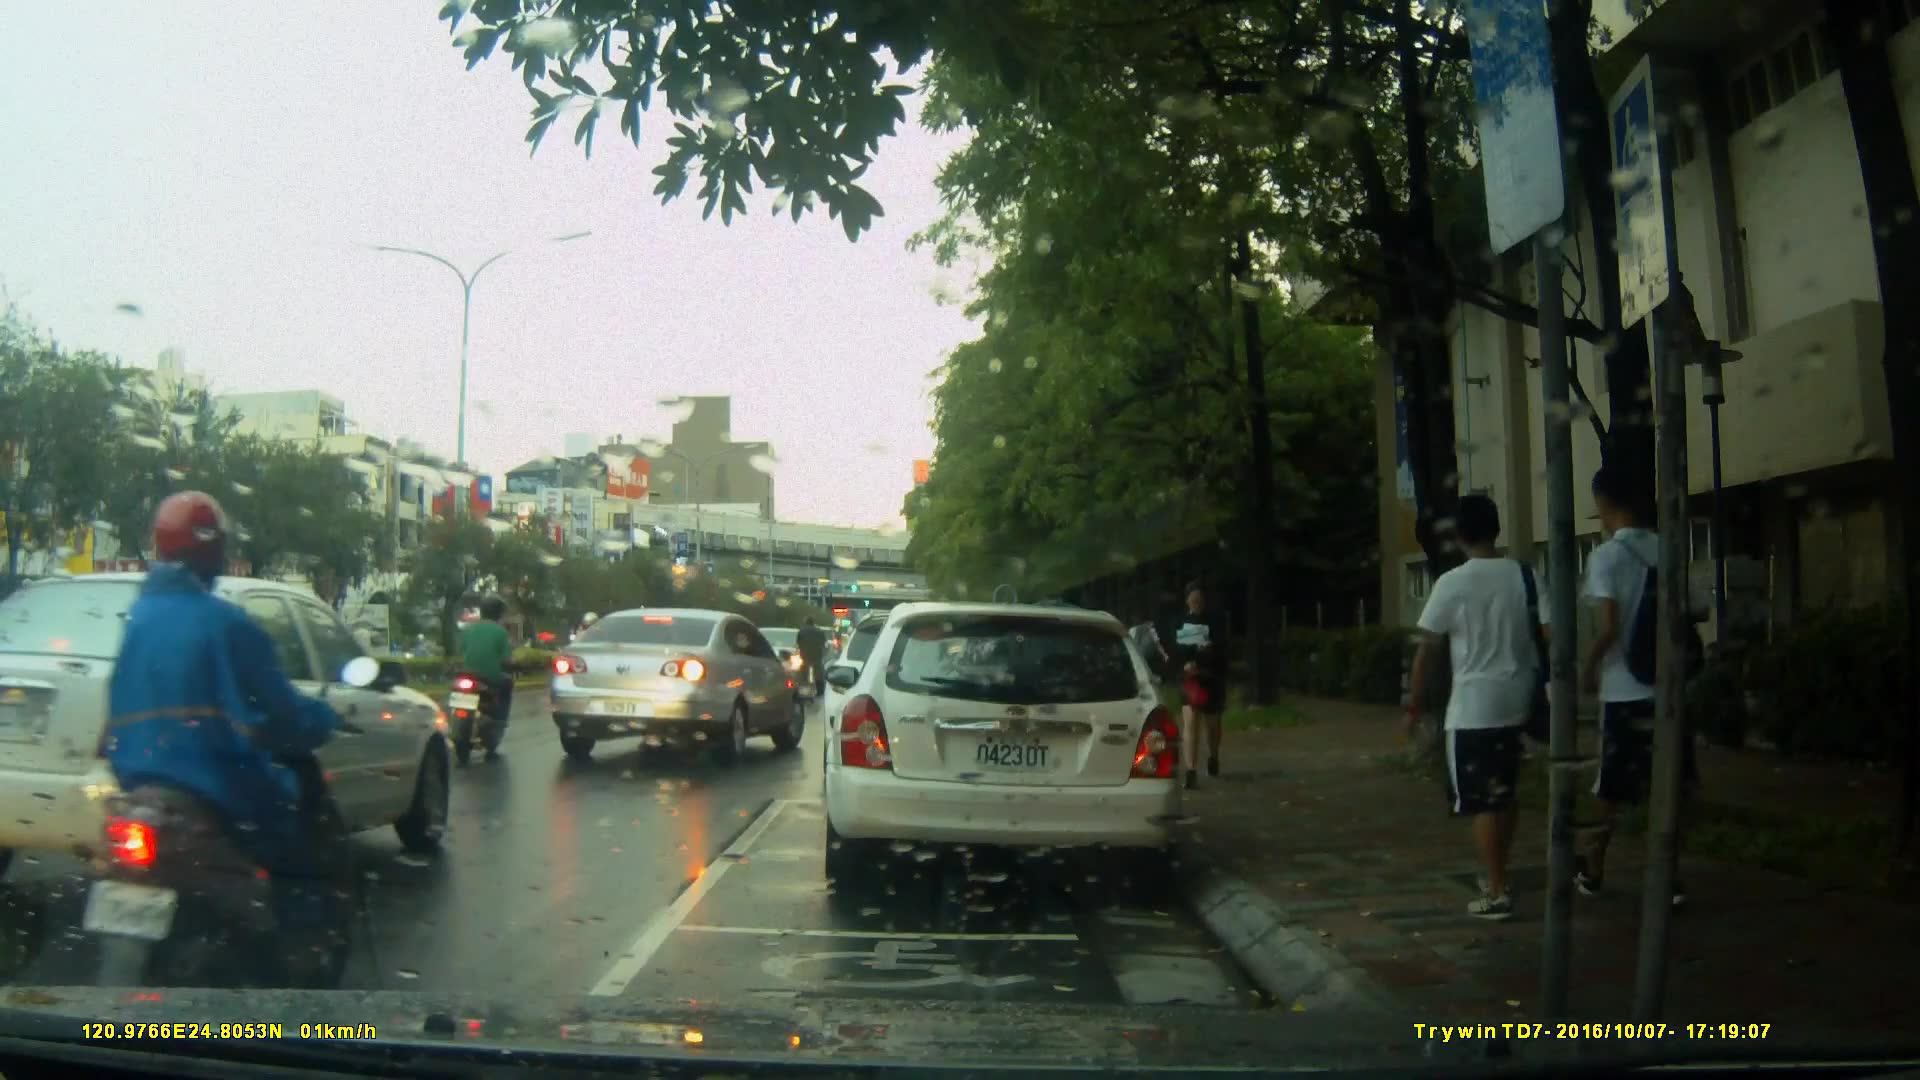pedestrian: (1417, 479, 1573, 925), (1570, 450, 1702, 923), (1170, 567, 1246, 794), (1122, 604, 1163, 732)
rider: (83, 490, 383, 1000), (448, 587, 531, 758), (567, 607, 609, 725), (794, 612, 827, 710)
vehicle: (1, 567, 461, 913), (820, 602, 1188, 898), (547, 607, 809, 767)
